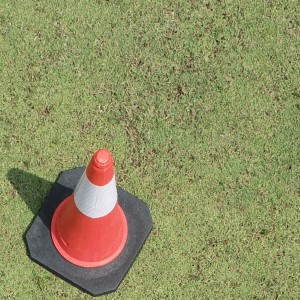traffic cone: (22, 148, 155, 297)
